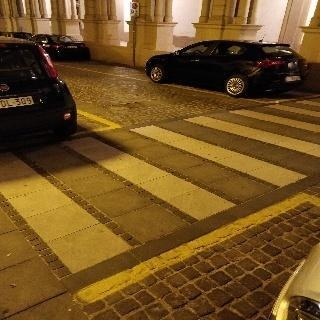road_crosswalk: (0, 94, 315, 283)
